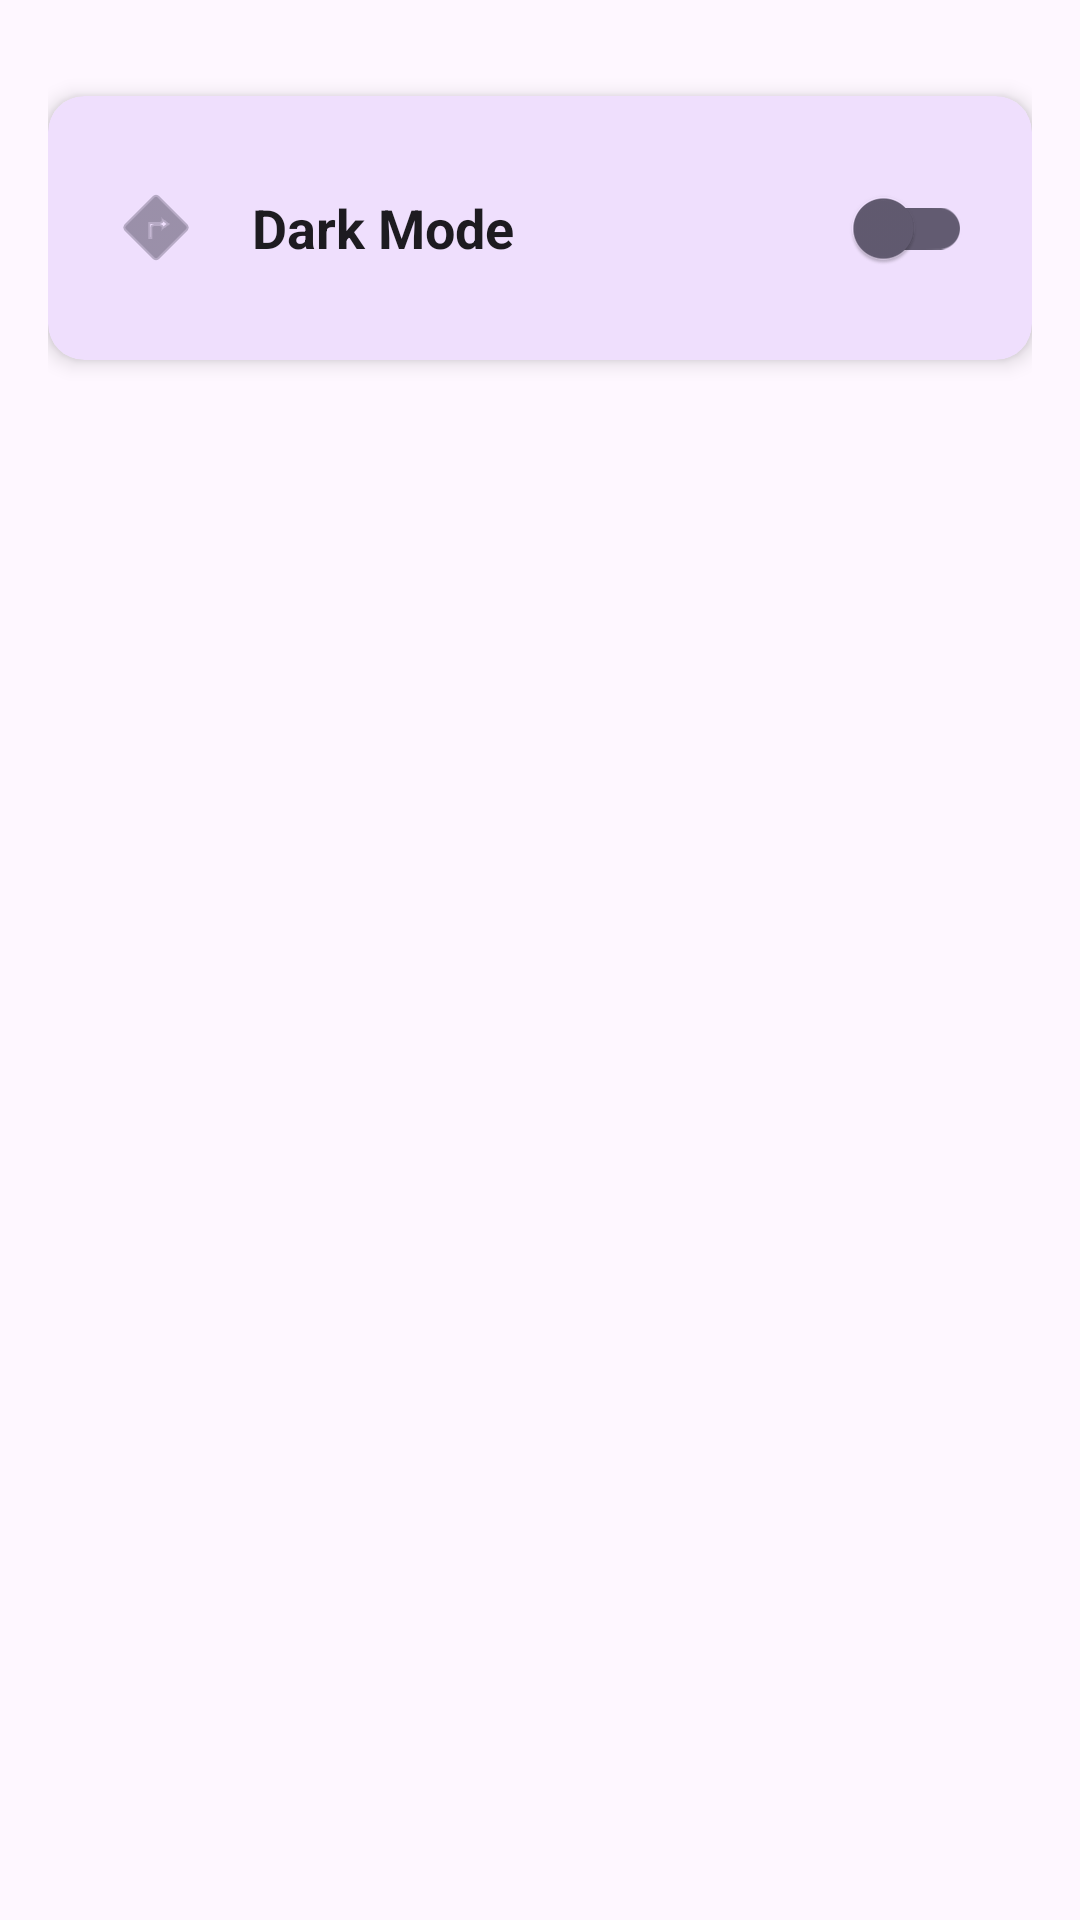

Named icons in this screenshot (1080w x 1920h) and their bounding boxes, (x1, y1, x2, y2):
directions: (123, 195, 189, 260)
